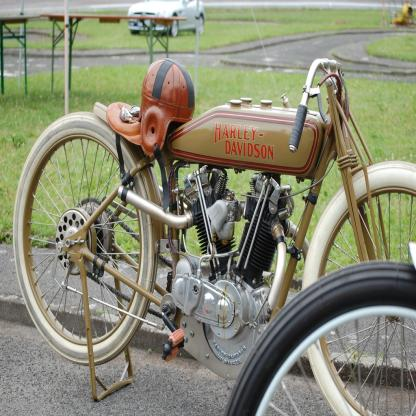Helmet: (133, 59, 199, 161)
